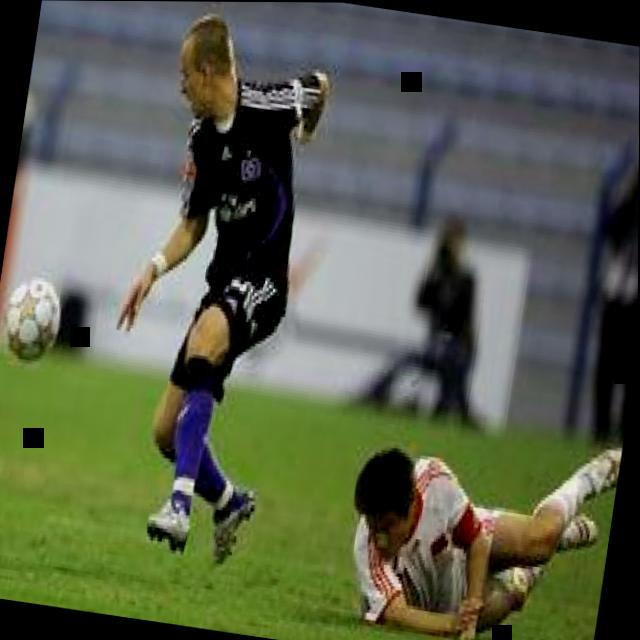Fall-Detected: (312, 367, 629, 640)
